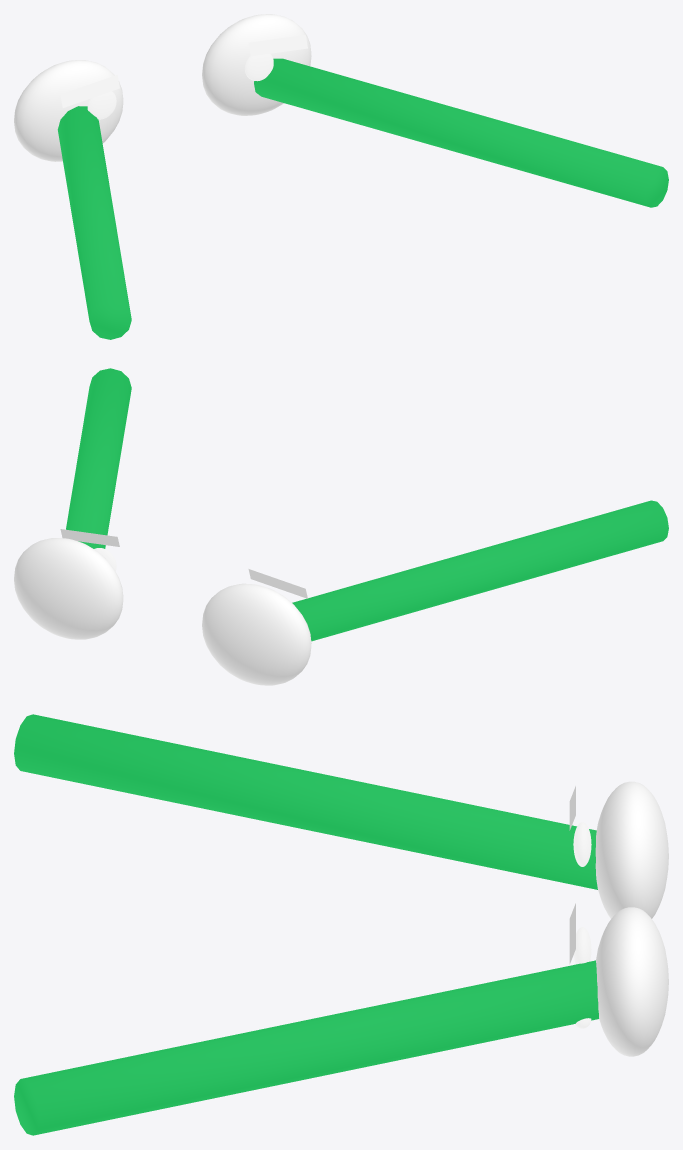
File: trait-eyes-green-laser.glb
3 views of the same model, one above another, from view 1: azimuth 30°, elevation 25°; view 2: azimuth 150°, elevation 25°; view 3: azimuth 270°, elevation 25° (orthographic). The views are drawn at different scales.
Parts seen in each view (by area): view 1: trait_eye_beam_R, trait_eye_beam_L, trait_eye_R, trait_eye_L, trait_eye_lash_L, trait_eye_lash_R, trait_eye_glint_R, trait_eye_glint_L; view 2: trait_eye_beam_L, trait_eye_L, trait_eye_R, trait_eye_beam_R, trait_eye_lash_R, trait_eye_lash_L; view 3: trait_eye_beam_R, trait_eye_beam_L, trait_eye_R, trait_eye_L, trait_eye_glint_L.
Part boxes in pixels (x1=…): trait_eye_beam_R: x1=254, y1=58, x2=668, y2=207; trait_eye_beam_L: x1=57, y1=106, x2=131, y2=339; trait_eye_R: x1=202, y1=14, x2=311, y2=115; trait_eye_L: x1=14, y1=60, x2=123, y2=161; trait_eye_lash_L: x1=60, y1=75, x2=119, y2=107; trait_eye_lash_R: x1=248, y1=35, x2=307, y2=56; trait_eye_glint_R: x1=244, y1=54, x2=273, y2=81; trait_eye_glint_L: x1=87, y1=91, x2=116, y2=119; trait_eye_beam_L: x1=292, y1=500, x2=668, y2=641; trait_eye_L: x1=202, y1=583, x2=311, y2=685; trait_eye_R: x1=14, y1=538, x2=123, y2=639; trait_eye_beam_R: x1=66, y1=368, x2=131, y2=548; trait_eye_lash_R: x1=60, y1=529, x2=119, y2=546; trait_eye_lash_L: x1=248, y1=569, x2=307, y2=598; trait_eye_beam_R: x1=14, y1=960, x2=598, y2=1135; trait_eye_beam_L: x1=14, y1=714, x2=597, y2=889; trait_eye_R: x1=596, y1=907, x2=668, y2=1056; trait_eye_L: x1=595, y1=781, x2=668, y2=918; trait_eye_glint_L: x1=573, y1=822, x2=591, y2=866.
Size of the model in its own units: 1.42 by 0.2262 by 1.01.
